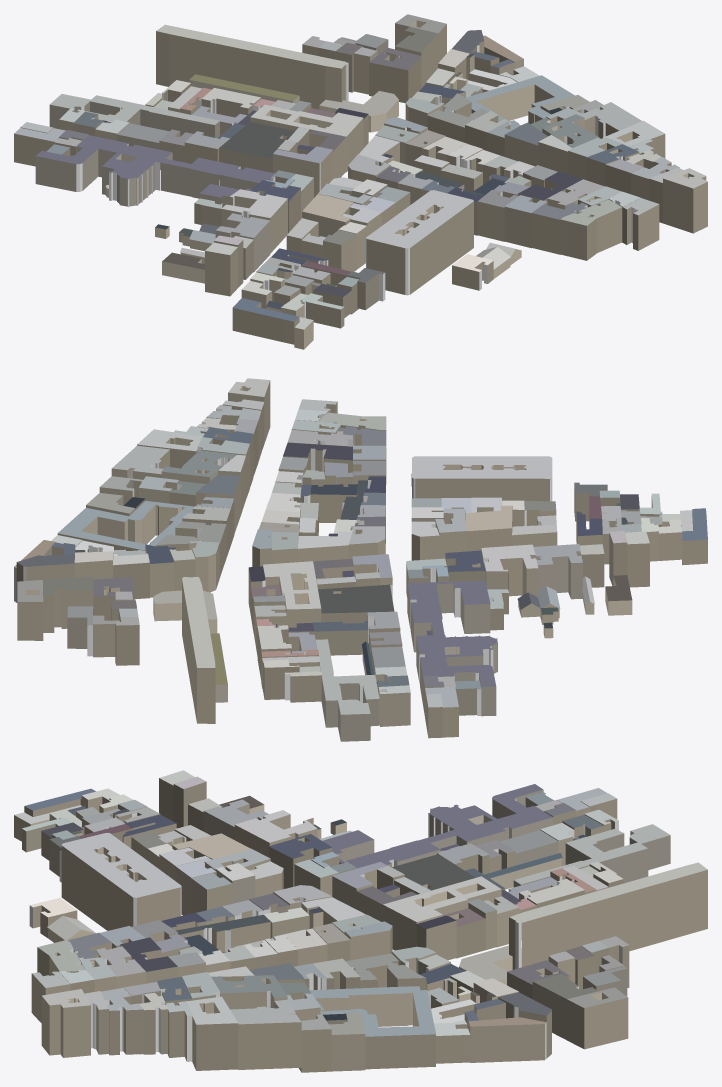
3 views of the same model, one above another, from view 1: azimuth 30°, elevation 25°; view 2: azimuth 150°, elevation 25°; view 3: azimuth 270°, elevation 25° (orthographic). The views are drawn at different scales.
Visible parts, largest first — view 1: tuile; view 2: tuile; view 3: tuile.
Boxes of the visible parts, x1,y1,x2,y2 form: tuile: (14,14,707,349); tuile: (14,378,707,741); tuile: (14,770,707,1072).
Size of the model in its own units: 267 by 29.35 by 300.
